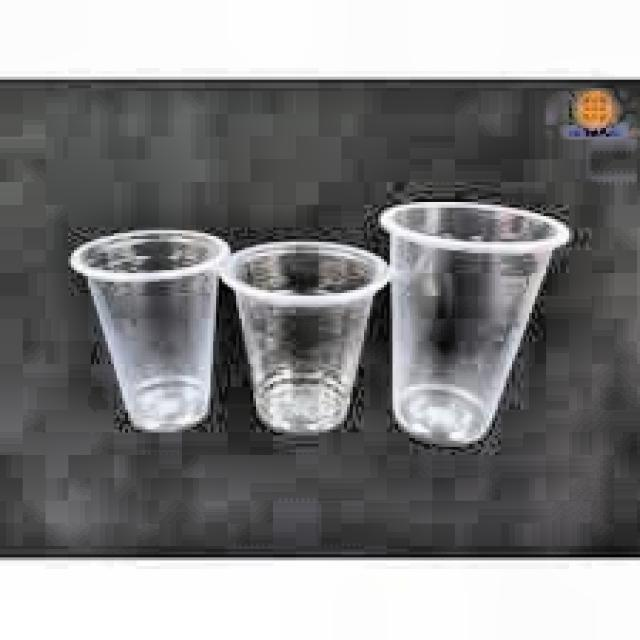plastic cup: (377, 196, 564, 450), (228, 232, 390, 439), (70, 221, 226, 433)
